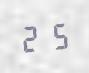five: (44, 20, 68, 50)
two: (19, 22, 43, 53)
